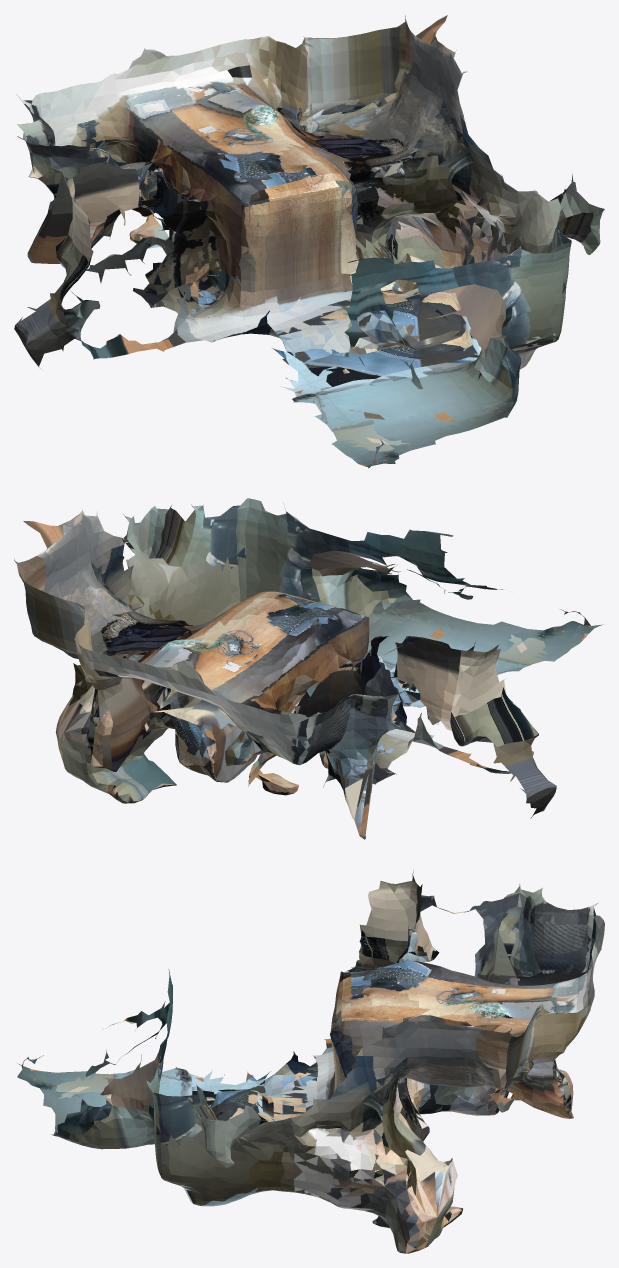
The model's file is bottle_lap1.glb.
3 renders of one model, top to bottom at view 1: azimuth 30°, elevation 25°; view 2: azimuth 150°, elevation 25°; view 3: azimuth 270°, elevation 25°, orthographic. The views are drawn at different scales.
Bounding box in the file's own units: 3 × 1.53 × 3.39.
1 material, 1 textured.
